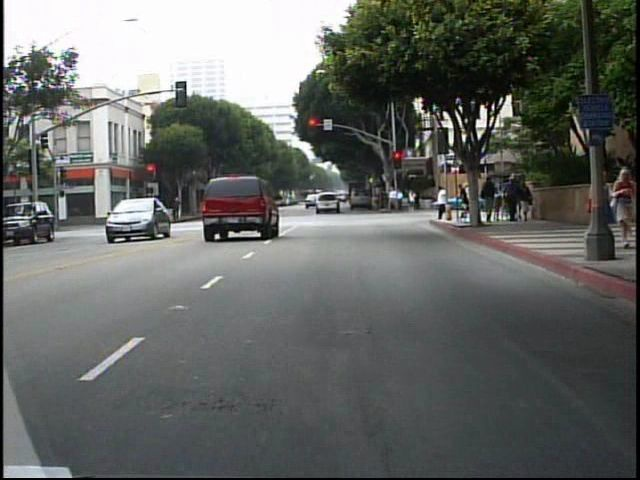person: (605, 165, 638, 247), (481, 175, 497, 225), (457, 178, 473, 222), (434, 184, 449, 223), (148, 197, 164, 227)
